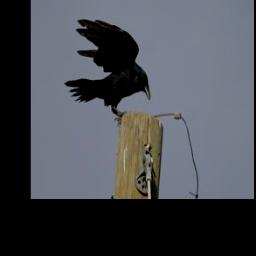Crow: (62, 16, 151, 124)
